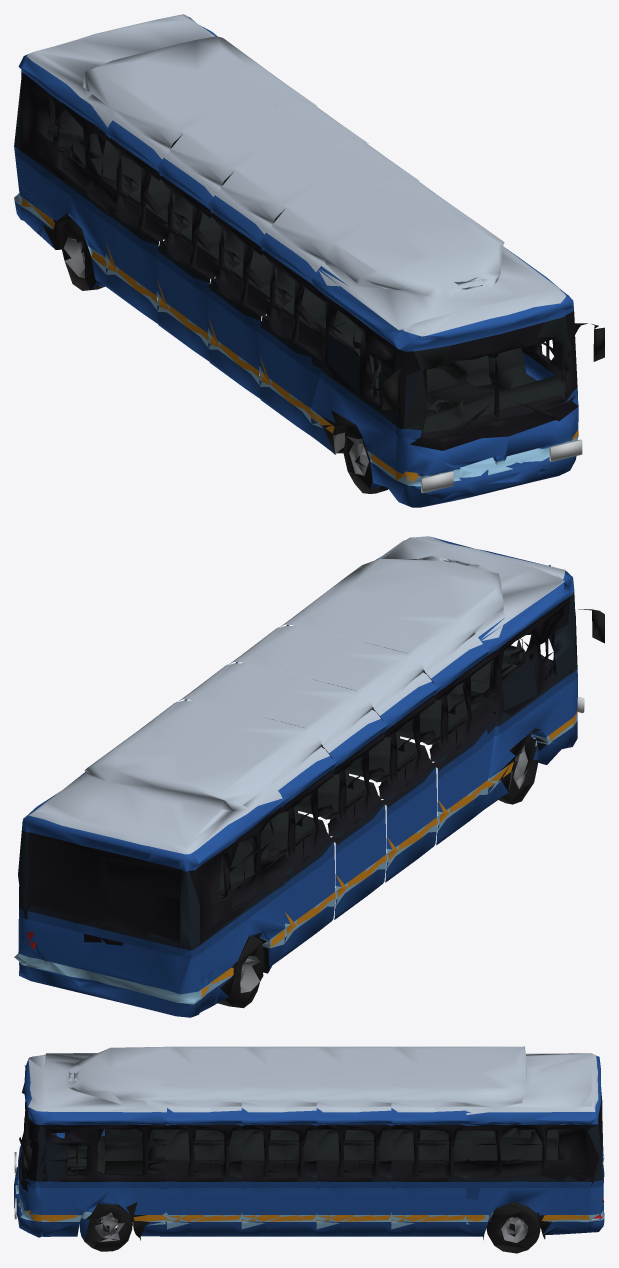
The model's file is mtc_ordinary_ac.glb.
3 views of the same model, one above another, from view 1: azimuth 30°, elevation 25°; view 2: azimuth 150°, elevation 25°; view 3: azimuth 270°, elevation 25° (orthographic). The views are drawn at different scales.
Visible parts, largest first — view 1: geometry_0; view 2: geometry_0; view 3: geometry_0.
Part boxes in pixels (box(x1,y1,x2,y2)): geometry_0: box(14, 14, 604, 507); geometry_0: box(14, 536, 604, 1017); geometry_0: box(14, 1046, 604, 1253).
Bounding box in the file's own units: 3.22 × 2.95 × 10.11.
